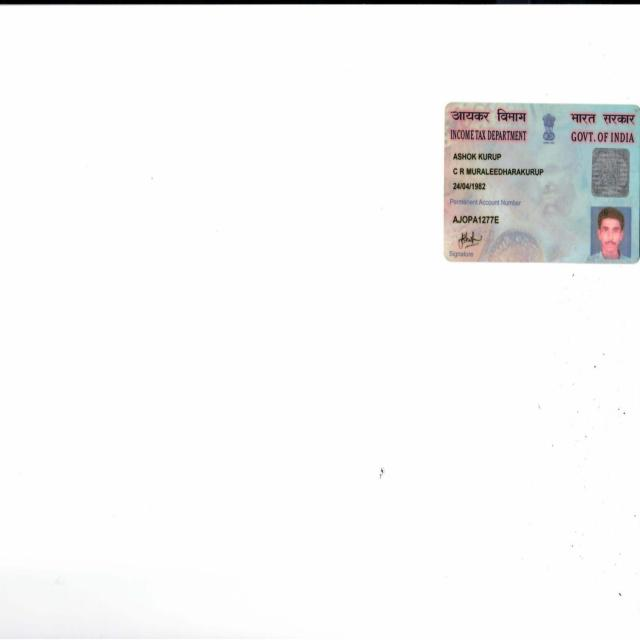pan_card: (444, 104, 639, 265)
